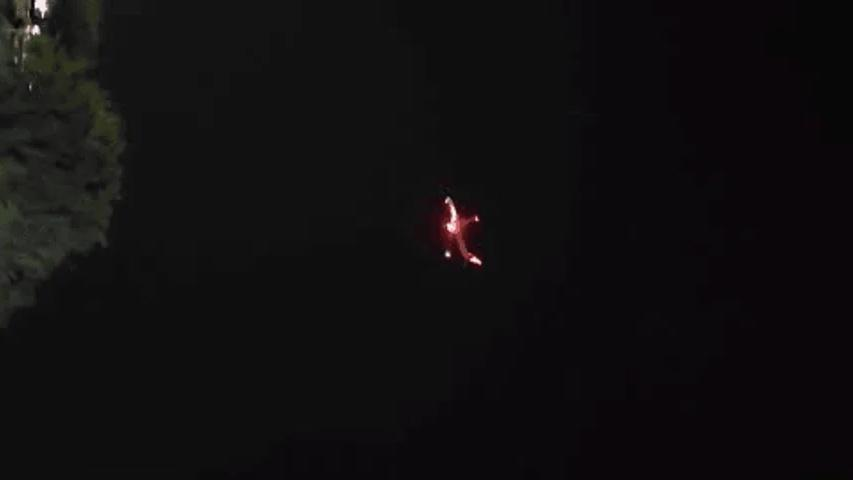Plane: (377, 158, 528, 296)
